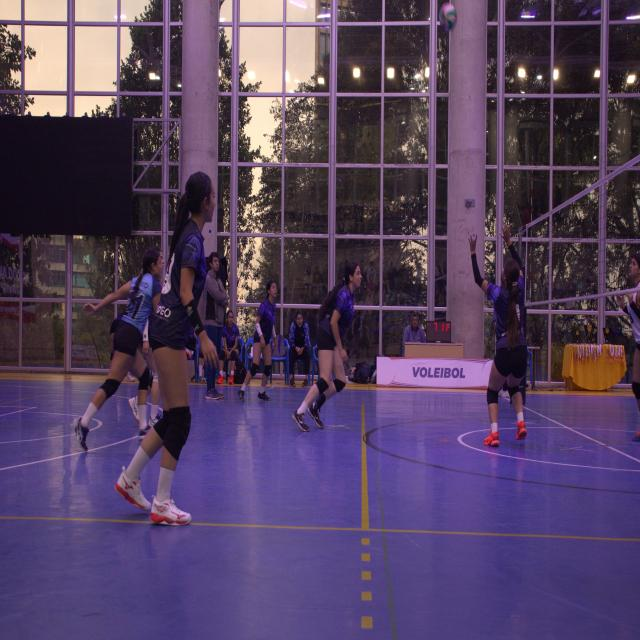volleyball: (439, 2, 457, 31)
